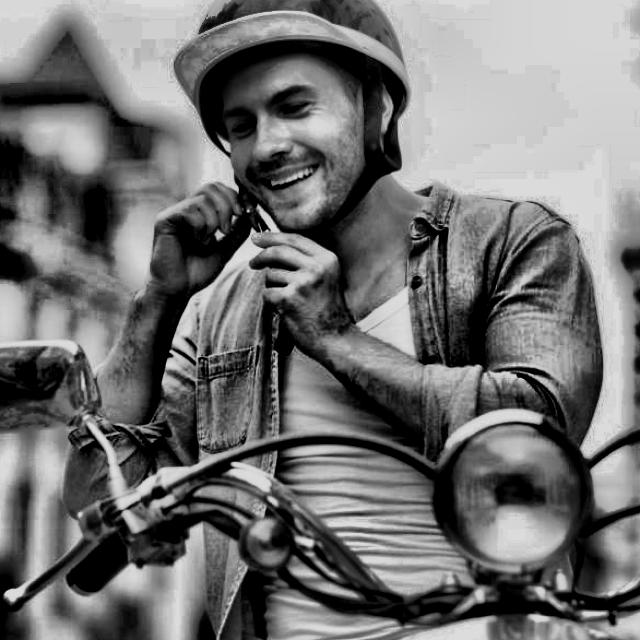Helmet: (165, 0, 420, 241)
